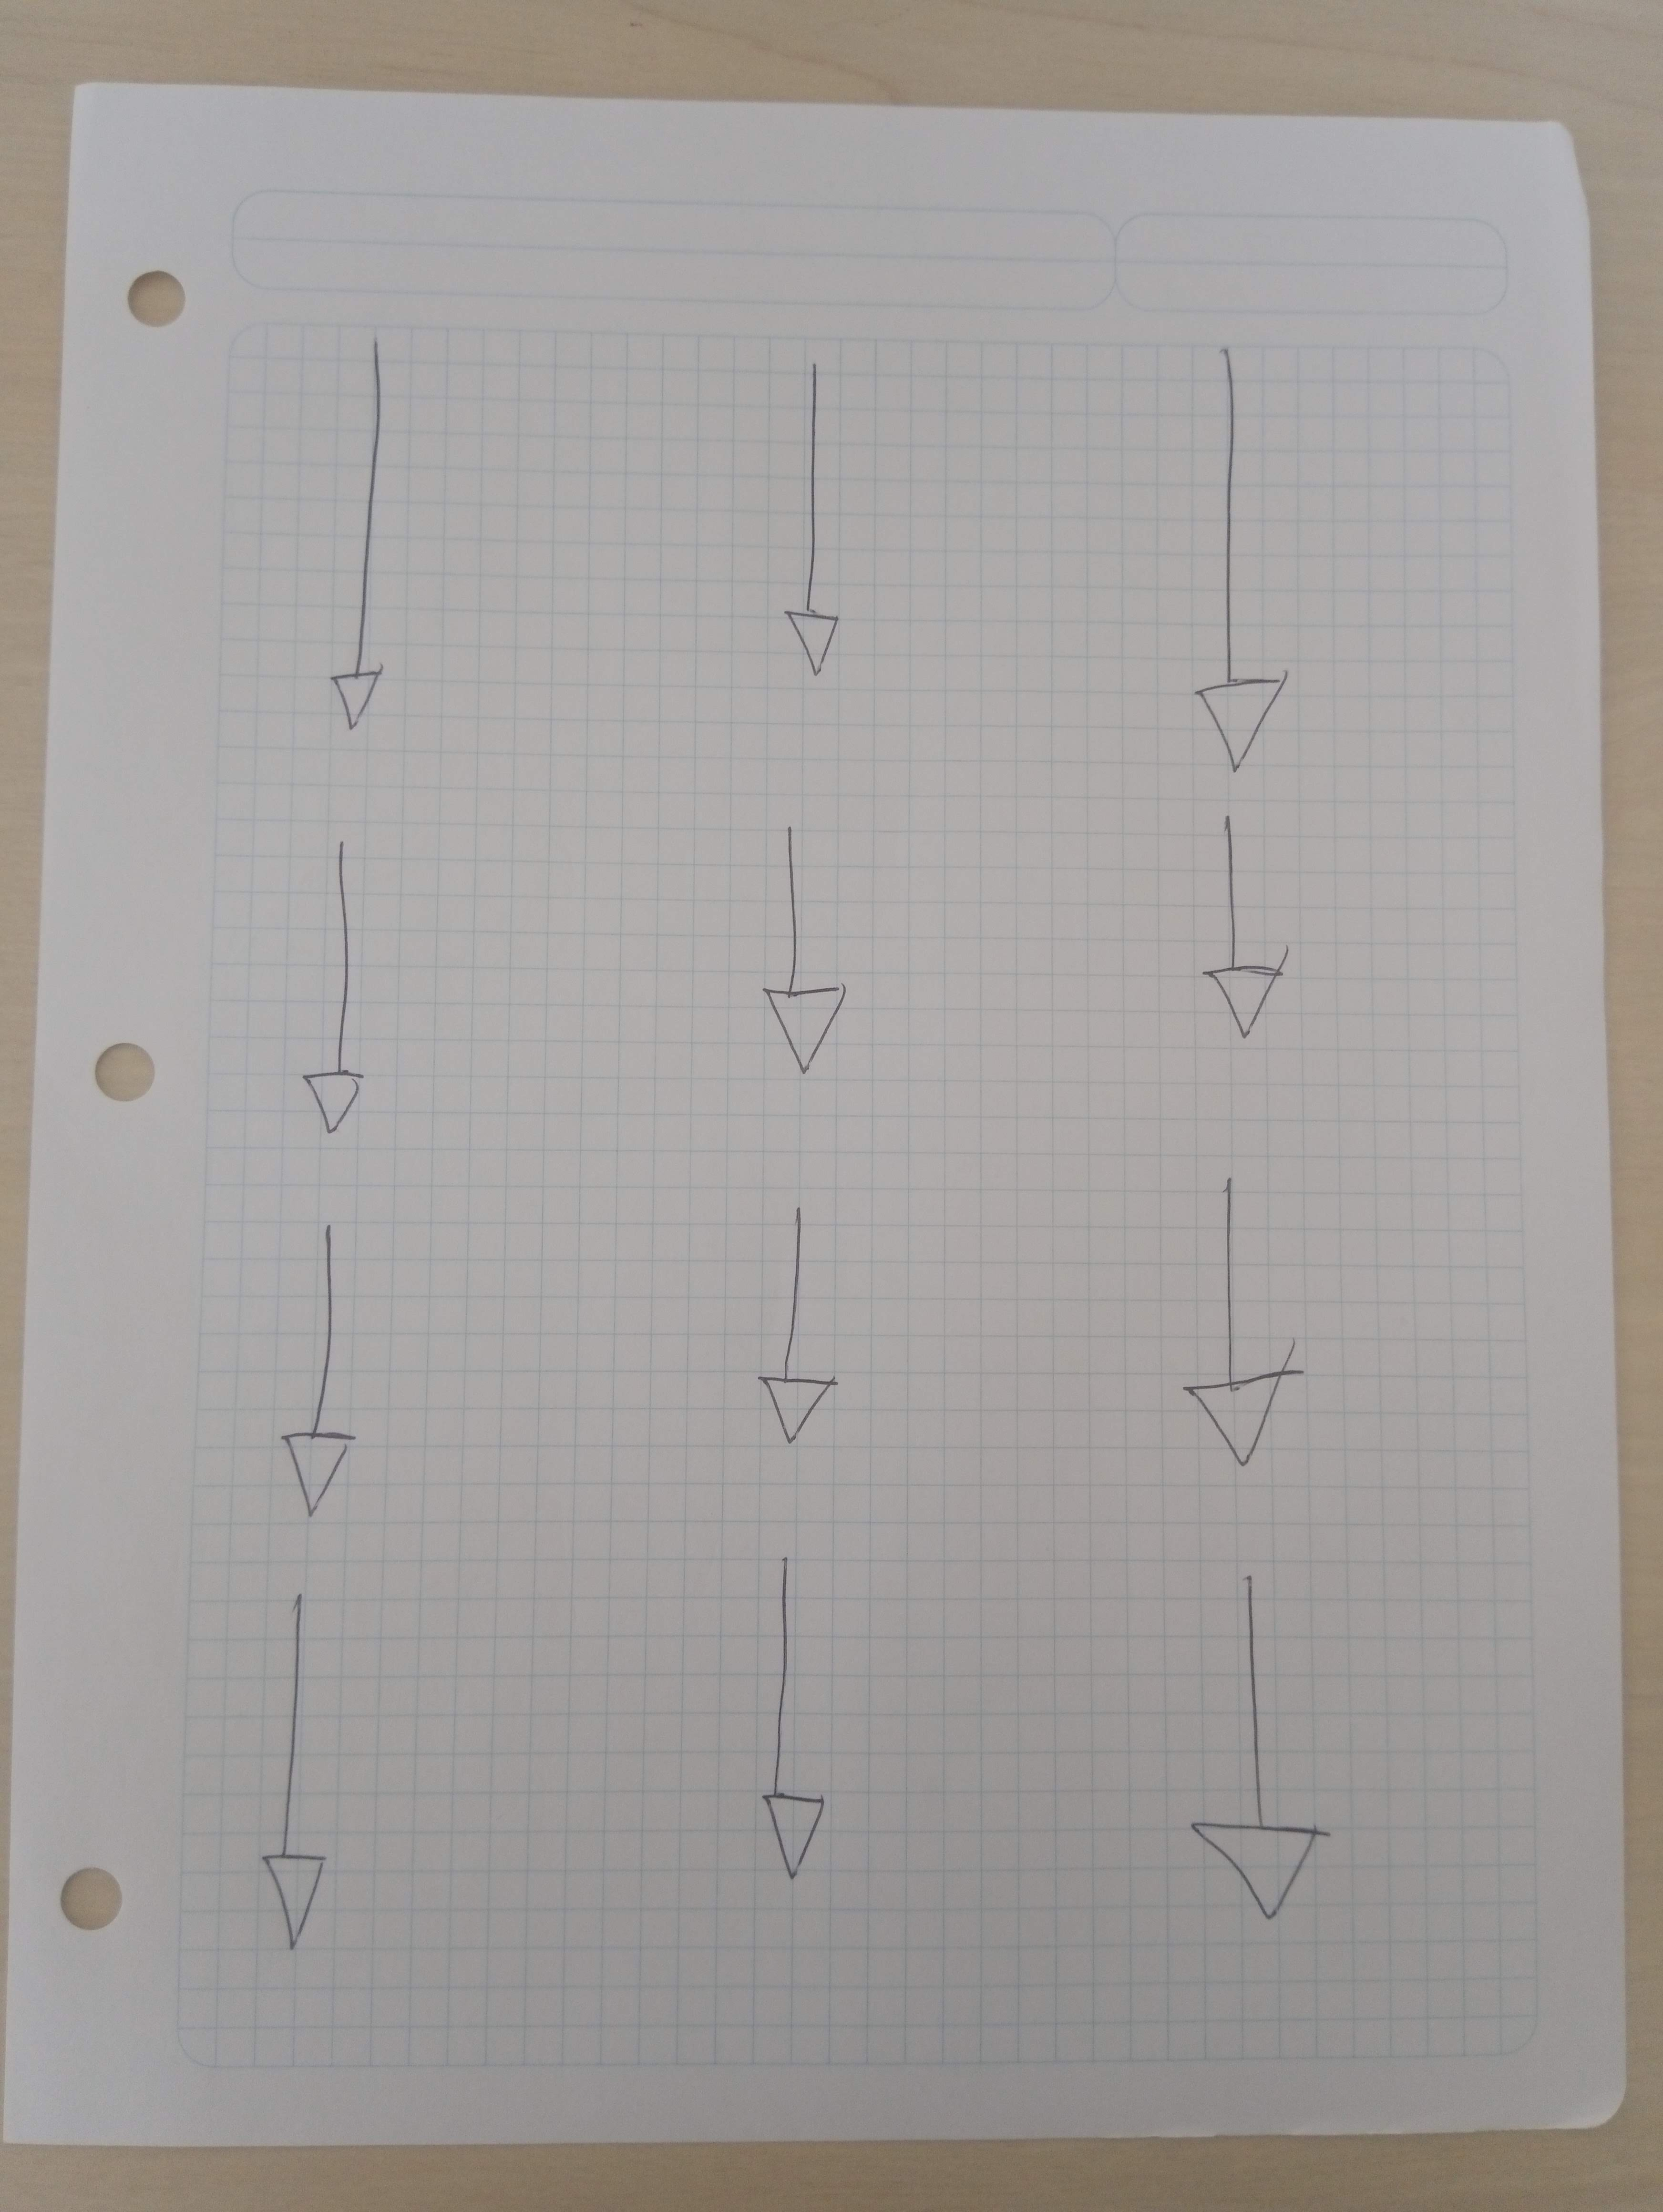arrow_line_down: (1172, 344, 1310, 789), (1202, 1564, 1336, 1941), (1172, 1184, 1298, 1491), (739, 1564, 851, 1894), (765, 368, 880, 681), (269, 1583, 356, 1985), (755, 821, 872, 1084), (283, 1222, 370, 1526), (335, 333, 391, 737), (313, 836, 379, 1145), (769, 1210, 842, 1474), (1211, 829, 1289, 1049)
